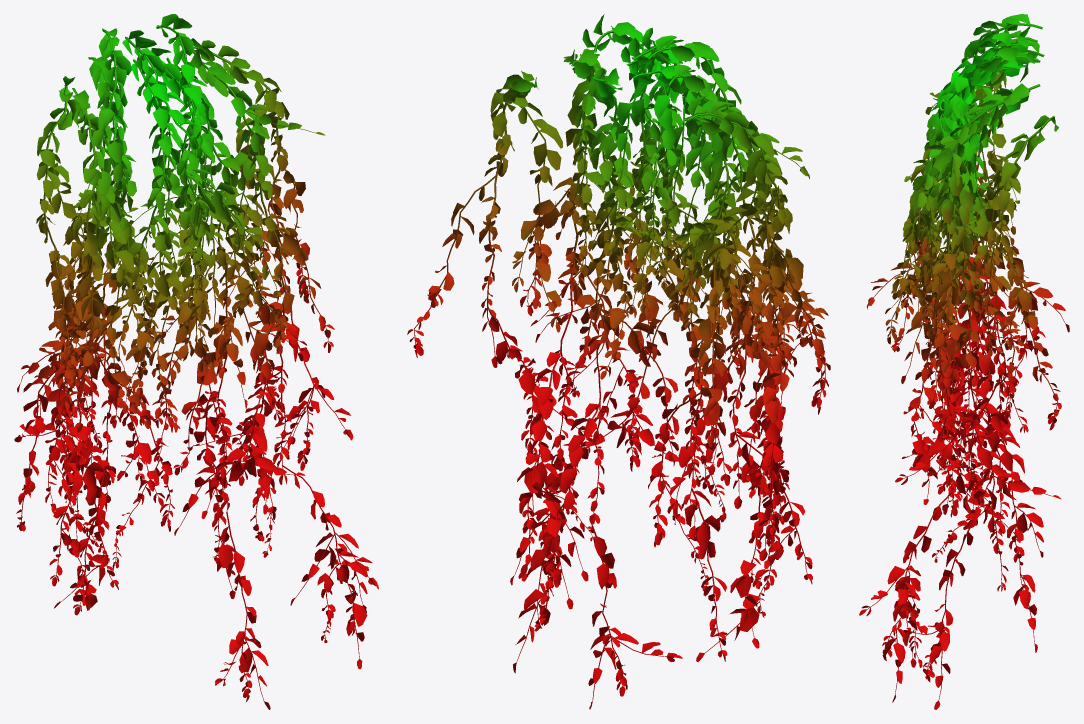
Rendered from Var2_LOD2.fbx.
The picture shows the model from 3 angles, left to right: view 1: azimuth 30°, elevation 25°; view 2: azimuth 150°, elevation 25°; view 3: azimuth 270°, elevation 25°; orthographic projection. The views are drawn at different scales.
Visible parts, largest first — view 1: _6eji_Var2_LOD2; view 2: _6eji_Var2_LOD2; view 3: _6eji_Var2_LOD2.
Part boxes in pixels (bbox=[...]): _6eji_Var2_LOD2: bbox=[14, 14, 378, 709]; _6eji_Var2_LOD2: bbox=[407, 14, 830, 709]; _6eji_Var2_LOD2: bbox=[859, 14, 1069, 709].
Bounding box in the file's own units: 118 × 238 × 70.85.
